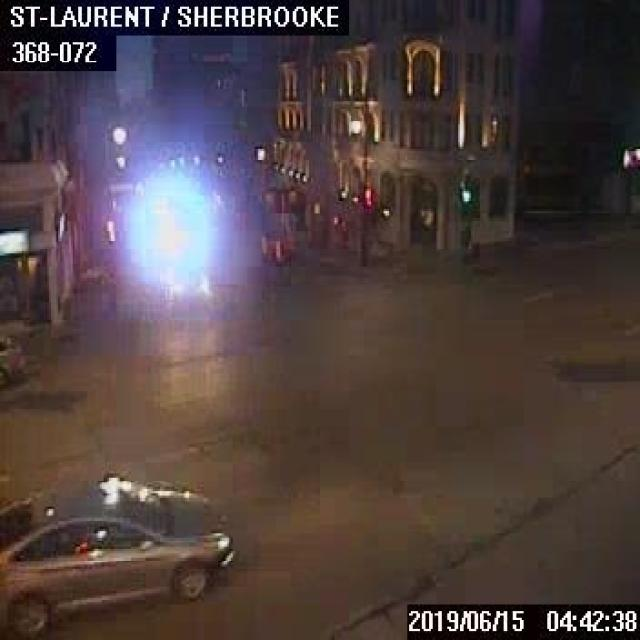construction: (258, 232, 268, 259), (273, 236, 280, 262)
vehicle: (0, 471, 233, 633), (0, 331, 24, 385)
